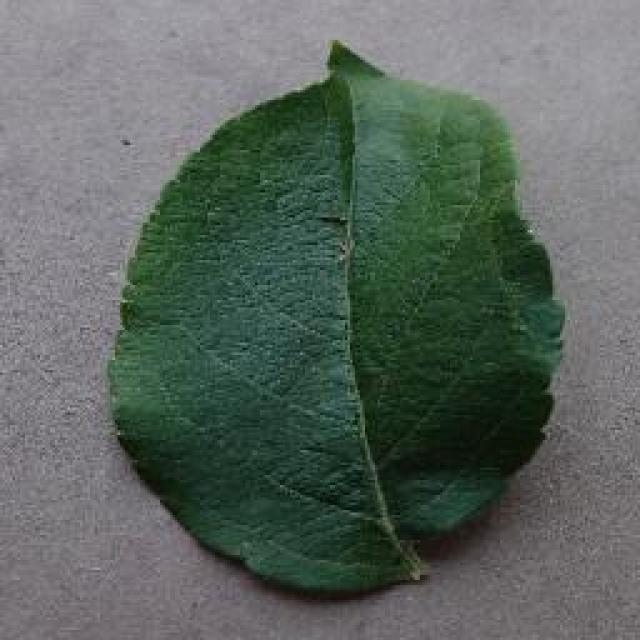apple healthy: (105, 35, 567, 597)
